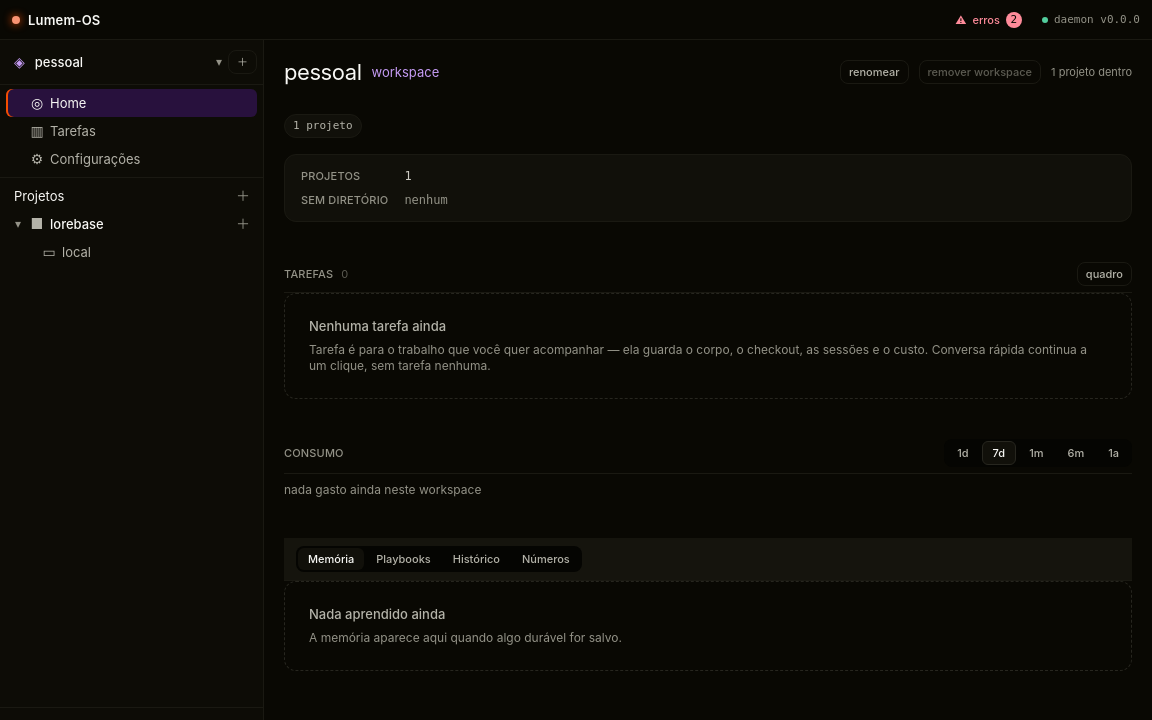
Test: create worktree › says it is working while the daemon creates the session
Click the button "■ lorebase": click(128, 224) [26,210,231,238]
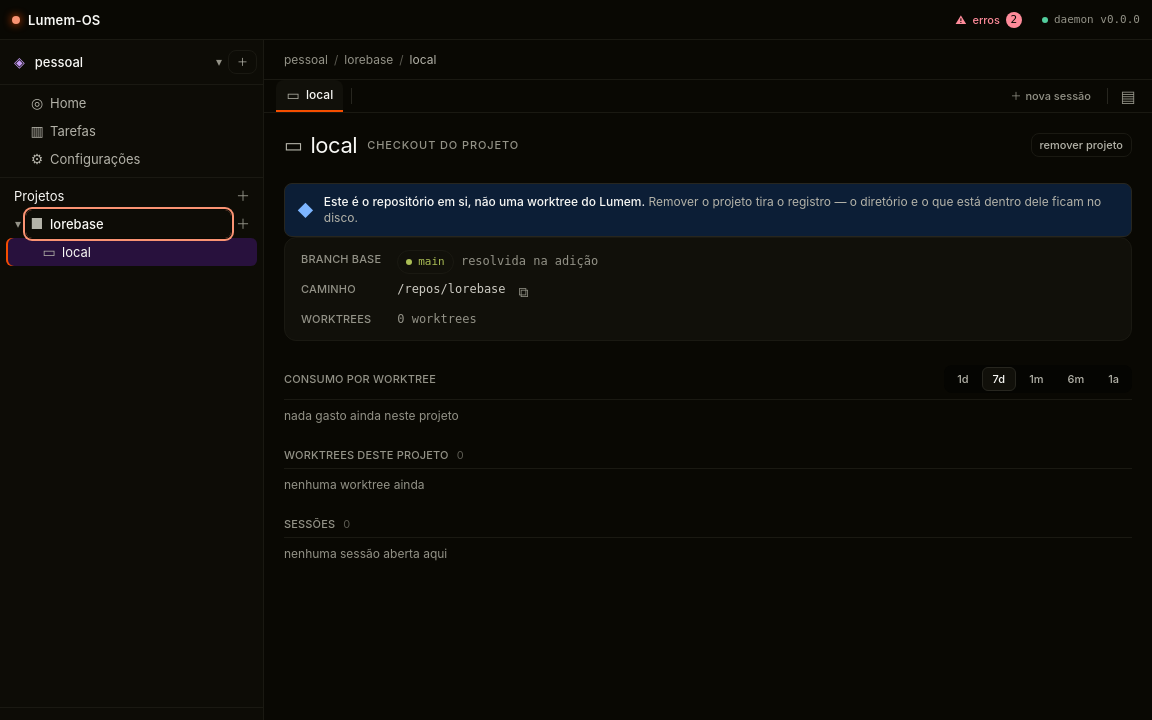
Click the button named "nova worktree em lorebase": click(243, 224) [231,212,255,236]
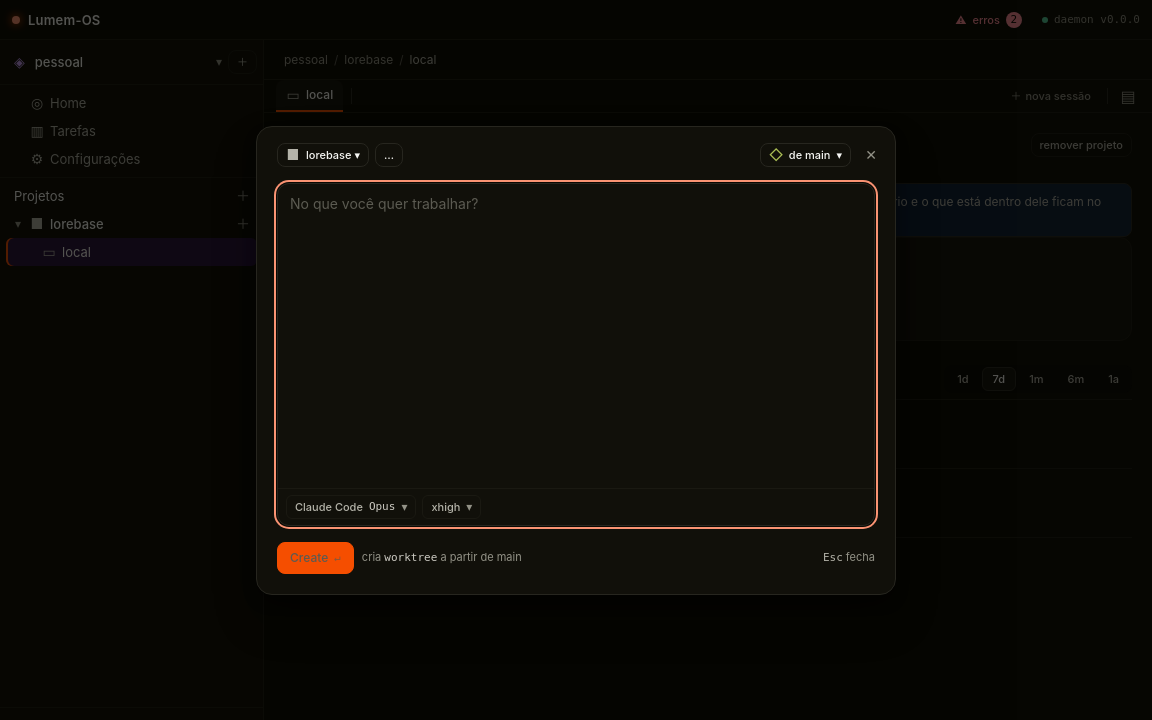
In the text box labelled "No que você quer trabalhar?": (576, 336) [278,184,874,488], type "teste"
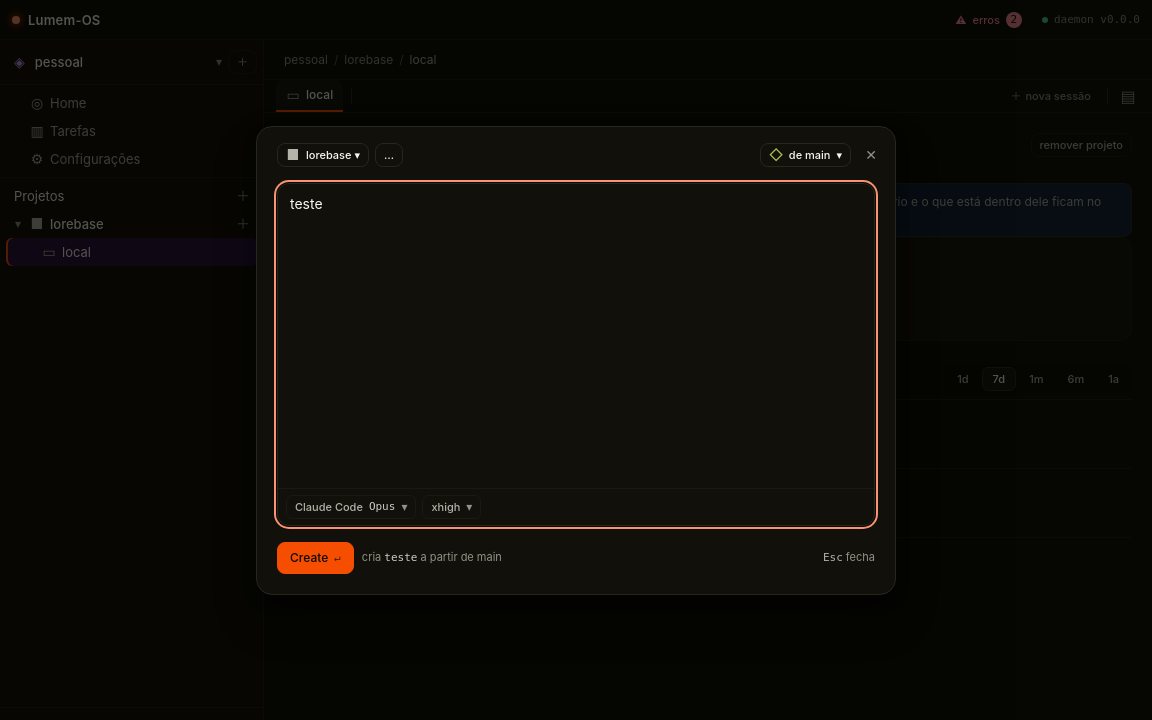
Click the button "Create ↵": click(315, 558) [277,542,354,574]
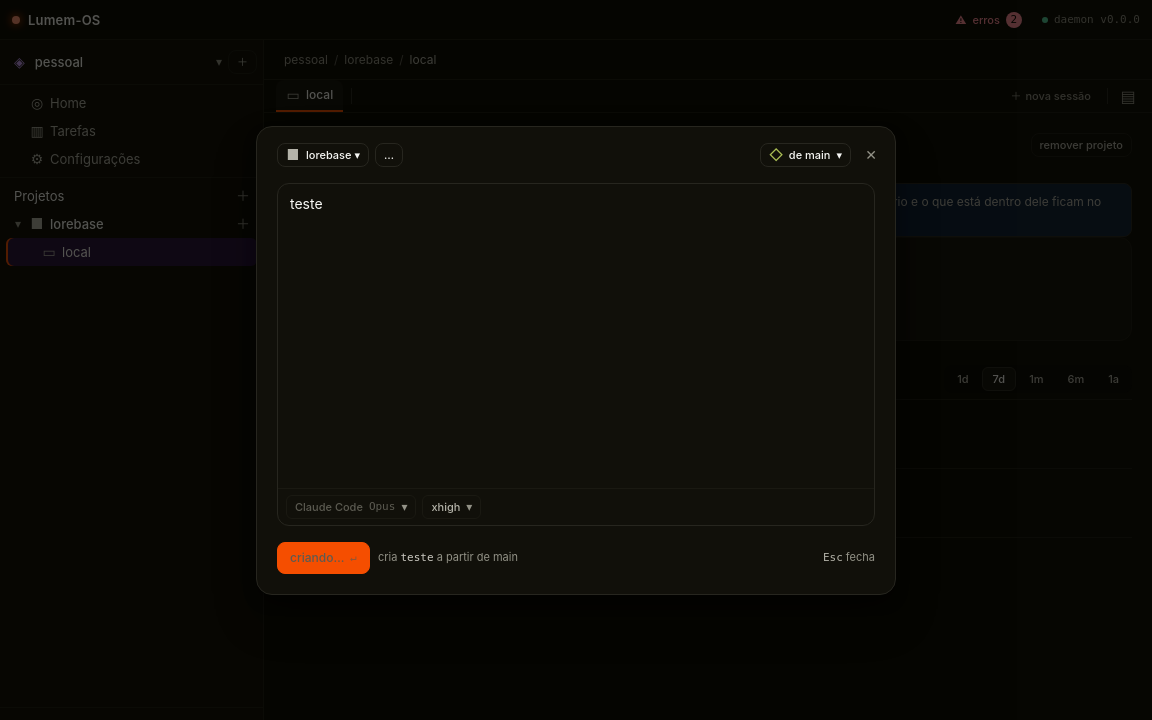
Check: the button "criando… ↵" is disabled, box [277,542,370,574]
